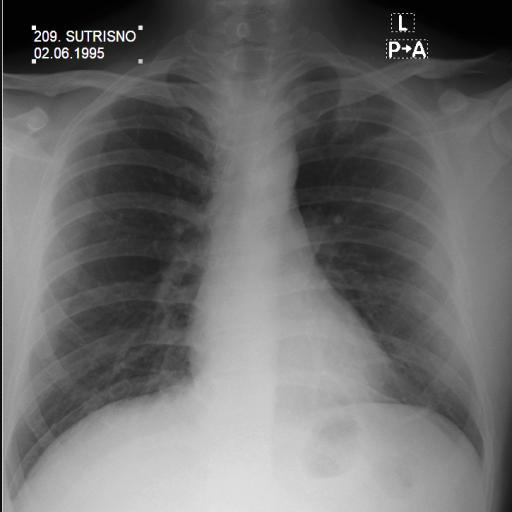normal: (4, 32, 510, 512)
